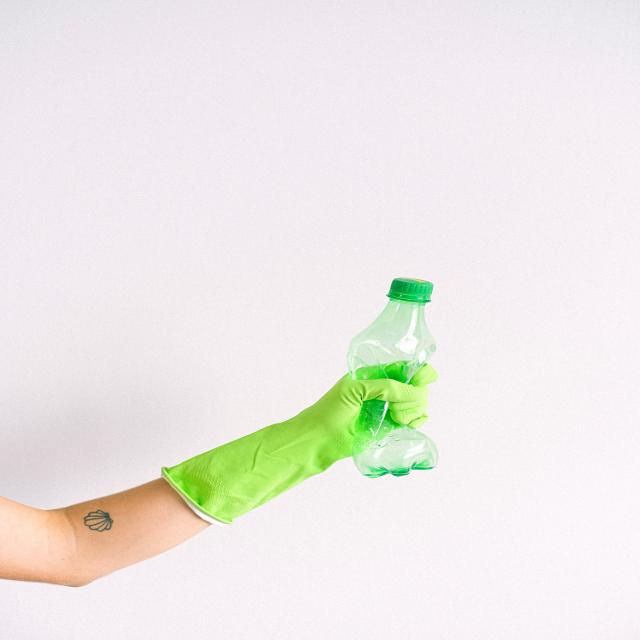plastic: (365, 443, 430, 475)
